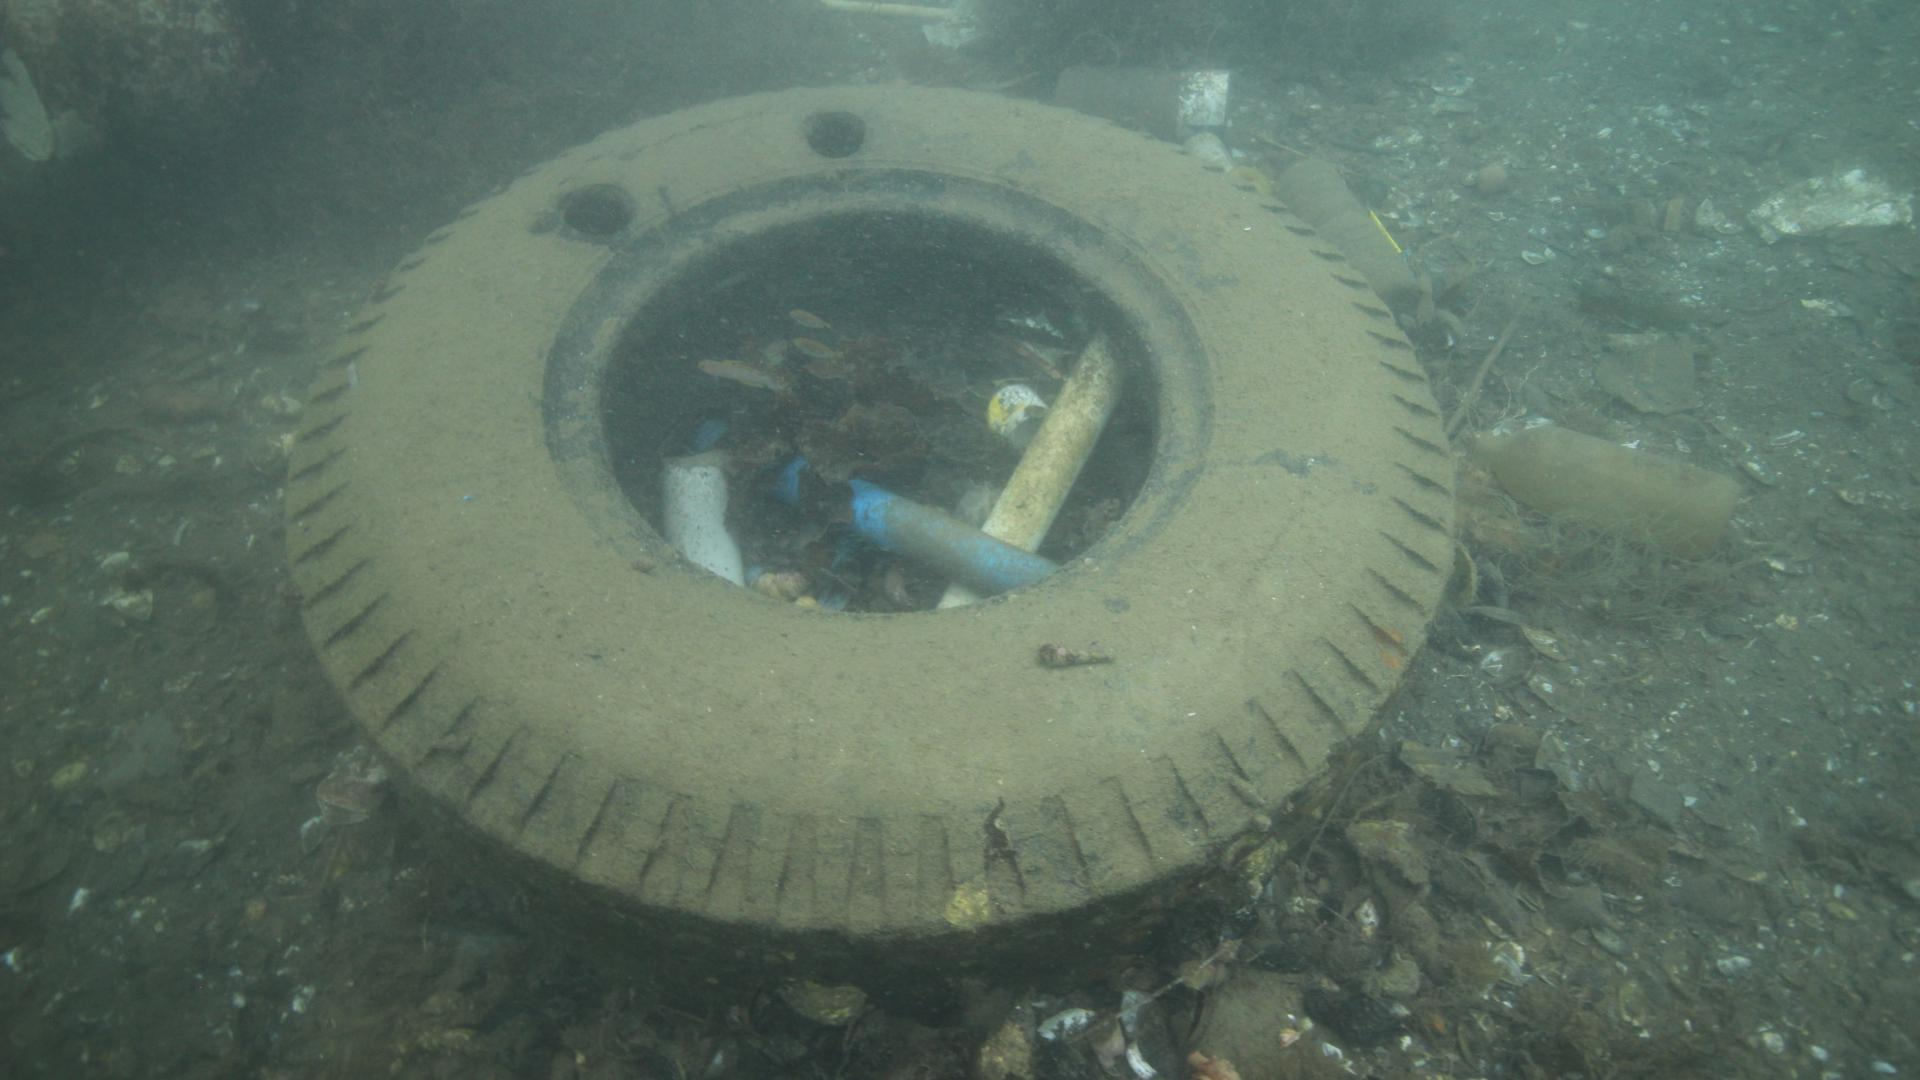tire: (284, 82, 1458, 990)
